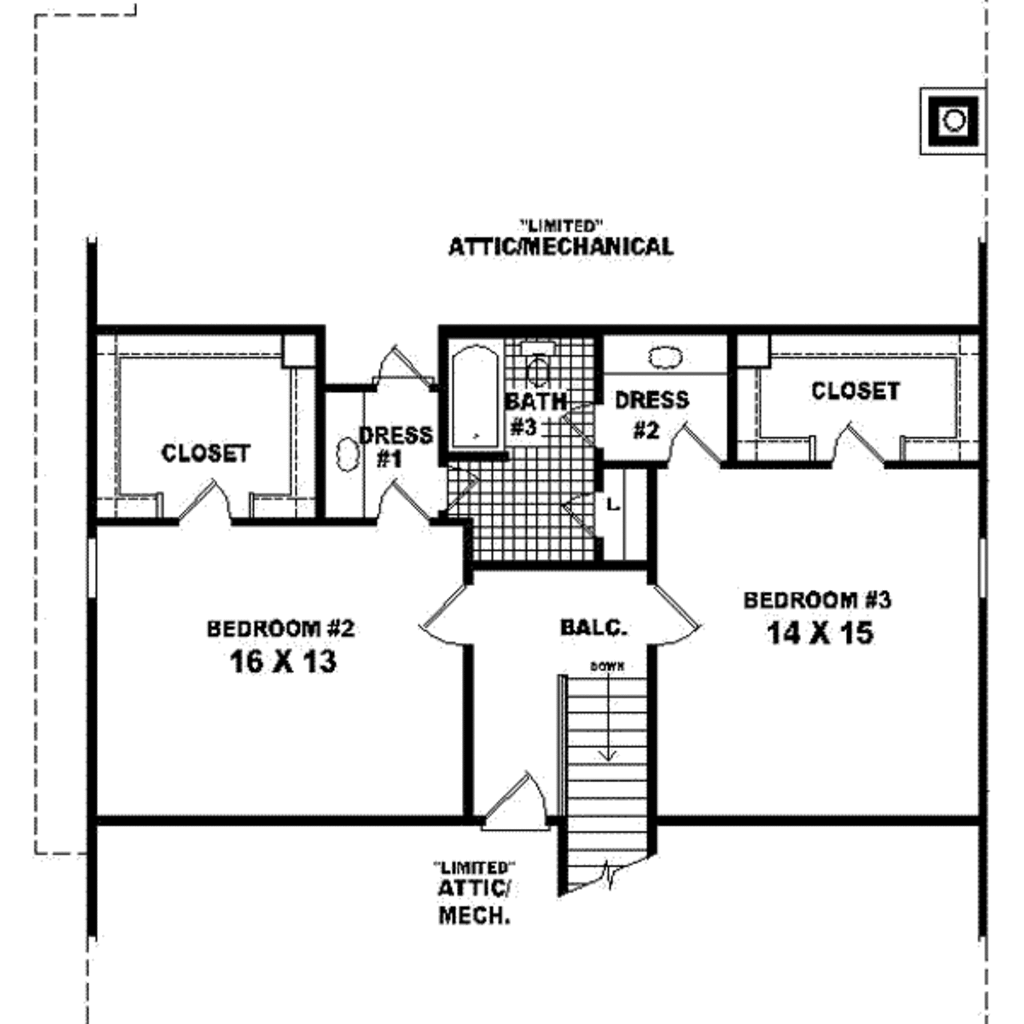door: (638, 563, 711, 652), (487, 768, 556, 843), (419, 579, 487, 651), (364, 479, 437, 536), (660, 412, 721, 478), (178, 478, 245, 527), (364, 339, 422, 395), (833, 420, 883, 470)
large_sink: (508, 330, 564, 397)
small_sink: (327, 392, 367, 519), (608, 333, 722, 374)
stairs: (551, 673, 672, 893)
tub: (441, 338, 508, 454)
window: (79, 533, 105, 606), (973, 538, 994, 611)
